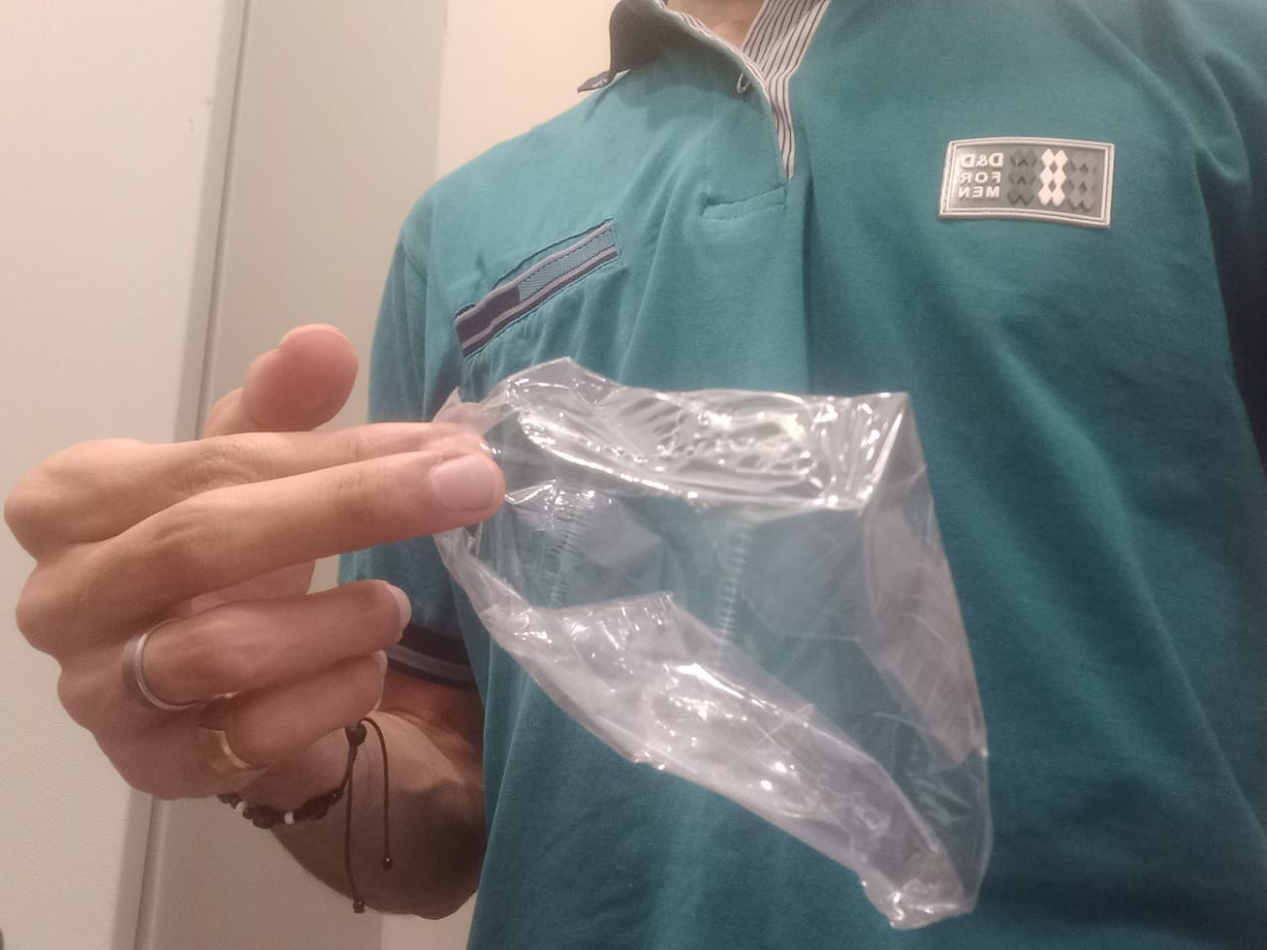Ordinario: (415, 356, 995, 929)
